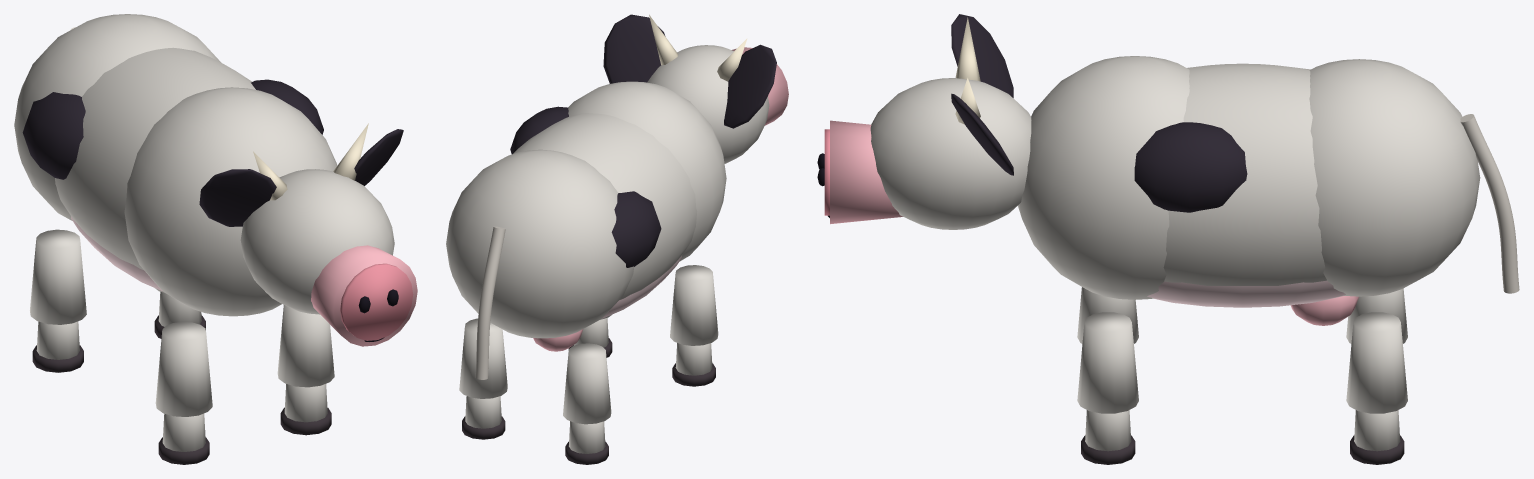
The model's file is cow.glb.
The picture shows the model from 3 angles, left to right: view 1: azimuth 30°, elevation 25°; view 2: azimuth 150°, elevation 25°; view 3: azimuth 270°, elevation 25°; orthographic projection. The views are drawn at different scales.
Visible parts, largest first — view 1: body, head, legFR, legBR, legFL, earR, earL, legBL; view 2: body, head, legBR, legFR, legBL, earL, earR, tail, legFL; view 3: body, head, legBL, legFL, tail, earR, legFR, legBR, earL.
Part boxes in pixels (x1,y1,x2,y2): body: (14,14,337,316); head: (240,123,417,346); legFR: (155,321,212,464); legBR: (30,229,86,372); legFL: (277,305,334,435); earR: (199,169,276,226); earL: (354,129,403,185); legBL: (154,288,205,338); body: (446,81,726,351); head: (647,14,788,163); legBR: (563,343,611,464); legFR: (670,265,718,386); legBL: (459,318,507,439); earL: (603,14,665,83); earR: (724,44,776,128); tail: (475,226,505,379); legFL: (568,315,612,357); body: (1018,56,1480,325); head: (817,17,1031,229); legBL: (1346,312,1407,464); legFL: (1077,312,1138,464); tail: (1460,114,1519,293); earR: (951,14,1013,97); legFR: (1077,287,1138,343); legBR: (1346,288,1407,343); earL: (951,93,1013,175).
Bounding box in the file's own units: 1.02 × 1.57 × 2.66.
